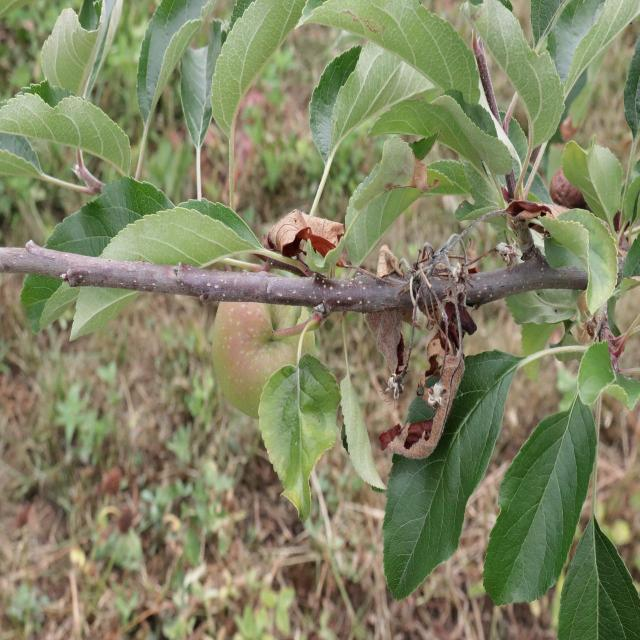-FireBlight-: (262, 204, 476, 464)
